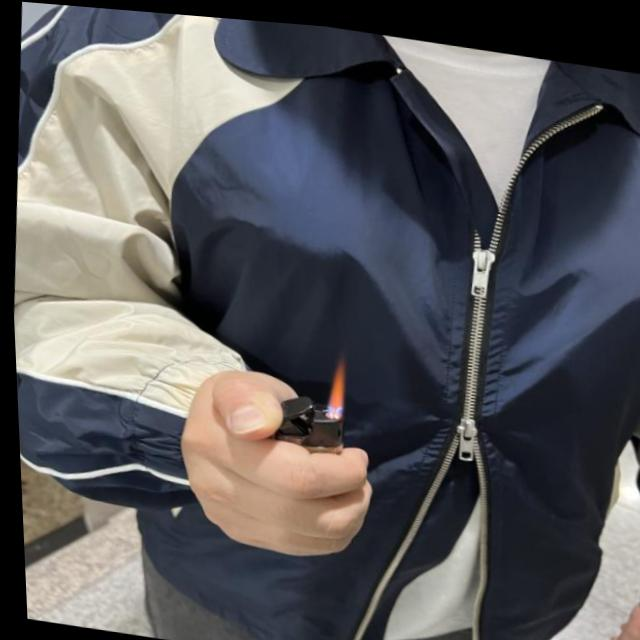Fire: (321, 351, 343, 404)
